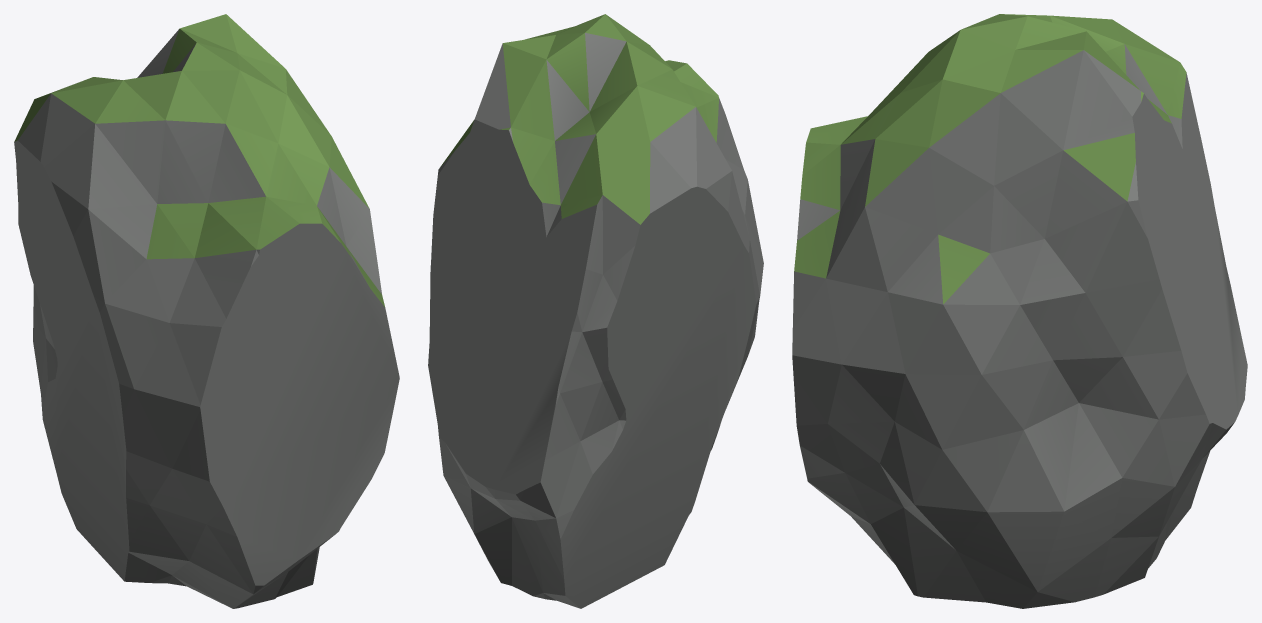
The model's file is obj_roca_grande_3.glb.
3 renders of one model, left to right at view 1: azimuth 30°, elevation 25°; view 2: azimuth 150°, elevation 25°; view 3: azimuth 270°, elevation 25°, orthographic. The views are drawn at different scales.
Visible parts, largest first — view 1: propforge-libre-roca_grande; view 2: propforge-libre-roca_grande; view 3: propforge-libre-roca_grande.
Boxes of the visible parts, x1,y1,x2,y2 form: propforge-libre-roca_grande: (14,14,399,608); propforge-libre-roca_grande: (428,14,763,608); propforge-libre-roca_grande: (792,14,1247,608).
Bounding box in the file's own units: 0.727 × 1.36 × 1.02.
